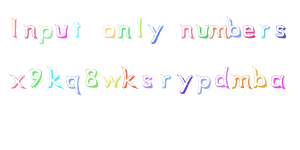8: (83, 64, 99, 90)
9: (28, 64, 45, 91)
I: (4, 13, 27, 44)
a: (268, 67, 289, 93)
b: (251, 59, 269, 91), (225, 11, 240, 39)
d: (212, 63, 231, 91)
e: (241, 19, 257, 42)
k: (45, 64, 65, 93), (121, 65, 141, 94)
l: (133, 12, 146, 44)
m: (231, 72, 253, 94), (207, 20, 229, 41)
n: (176, 19, 196, 43), (21, 20, 38, 42), (116, 20, 132, 40)
o: (98, 21, 115, 42)
p: (195, 71, 212, 98), (37, 24, 54, 46)
q: (64, 73, 83, 96)
r: (157, 70, 175, 93), (259, 20, 270, 41)
s: (139, 70, 156, 91), (272, 21, 288, 41)
t: (70, 16, 87, 44)
u: (53, 18, 69, 43), (194, 20, 211, 41)
w: (99, 71, 122, 90)
x: (7, 69, 28, 94)
y: (145, 21, 166, 46), (176, 70, 194, 98)
